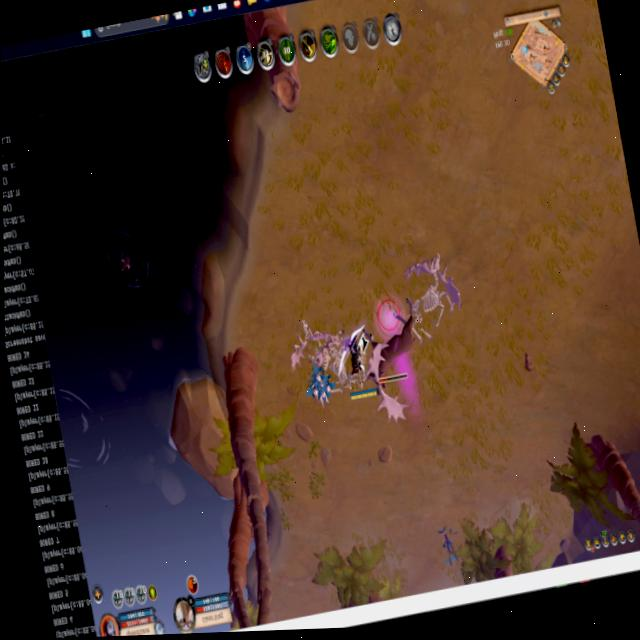hide: (303, 356, 337, 409)
ore: (357, 291, 434, 423)
red: (336, 325, 379, 404)
